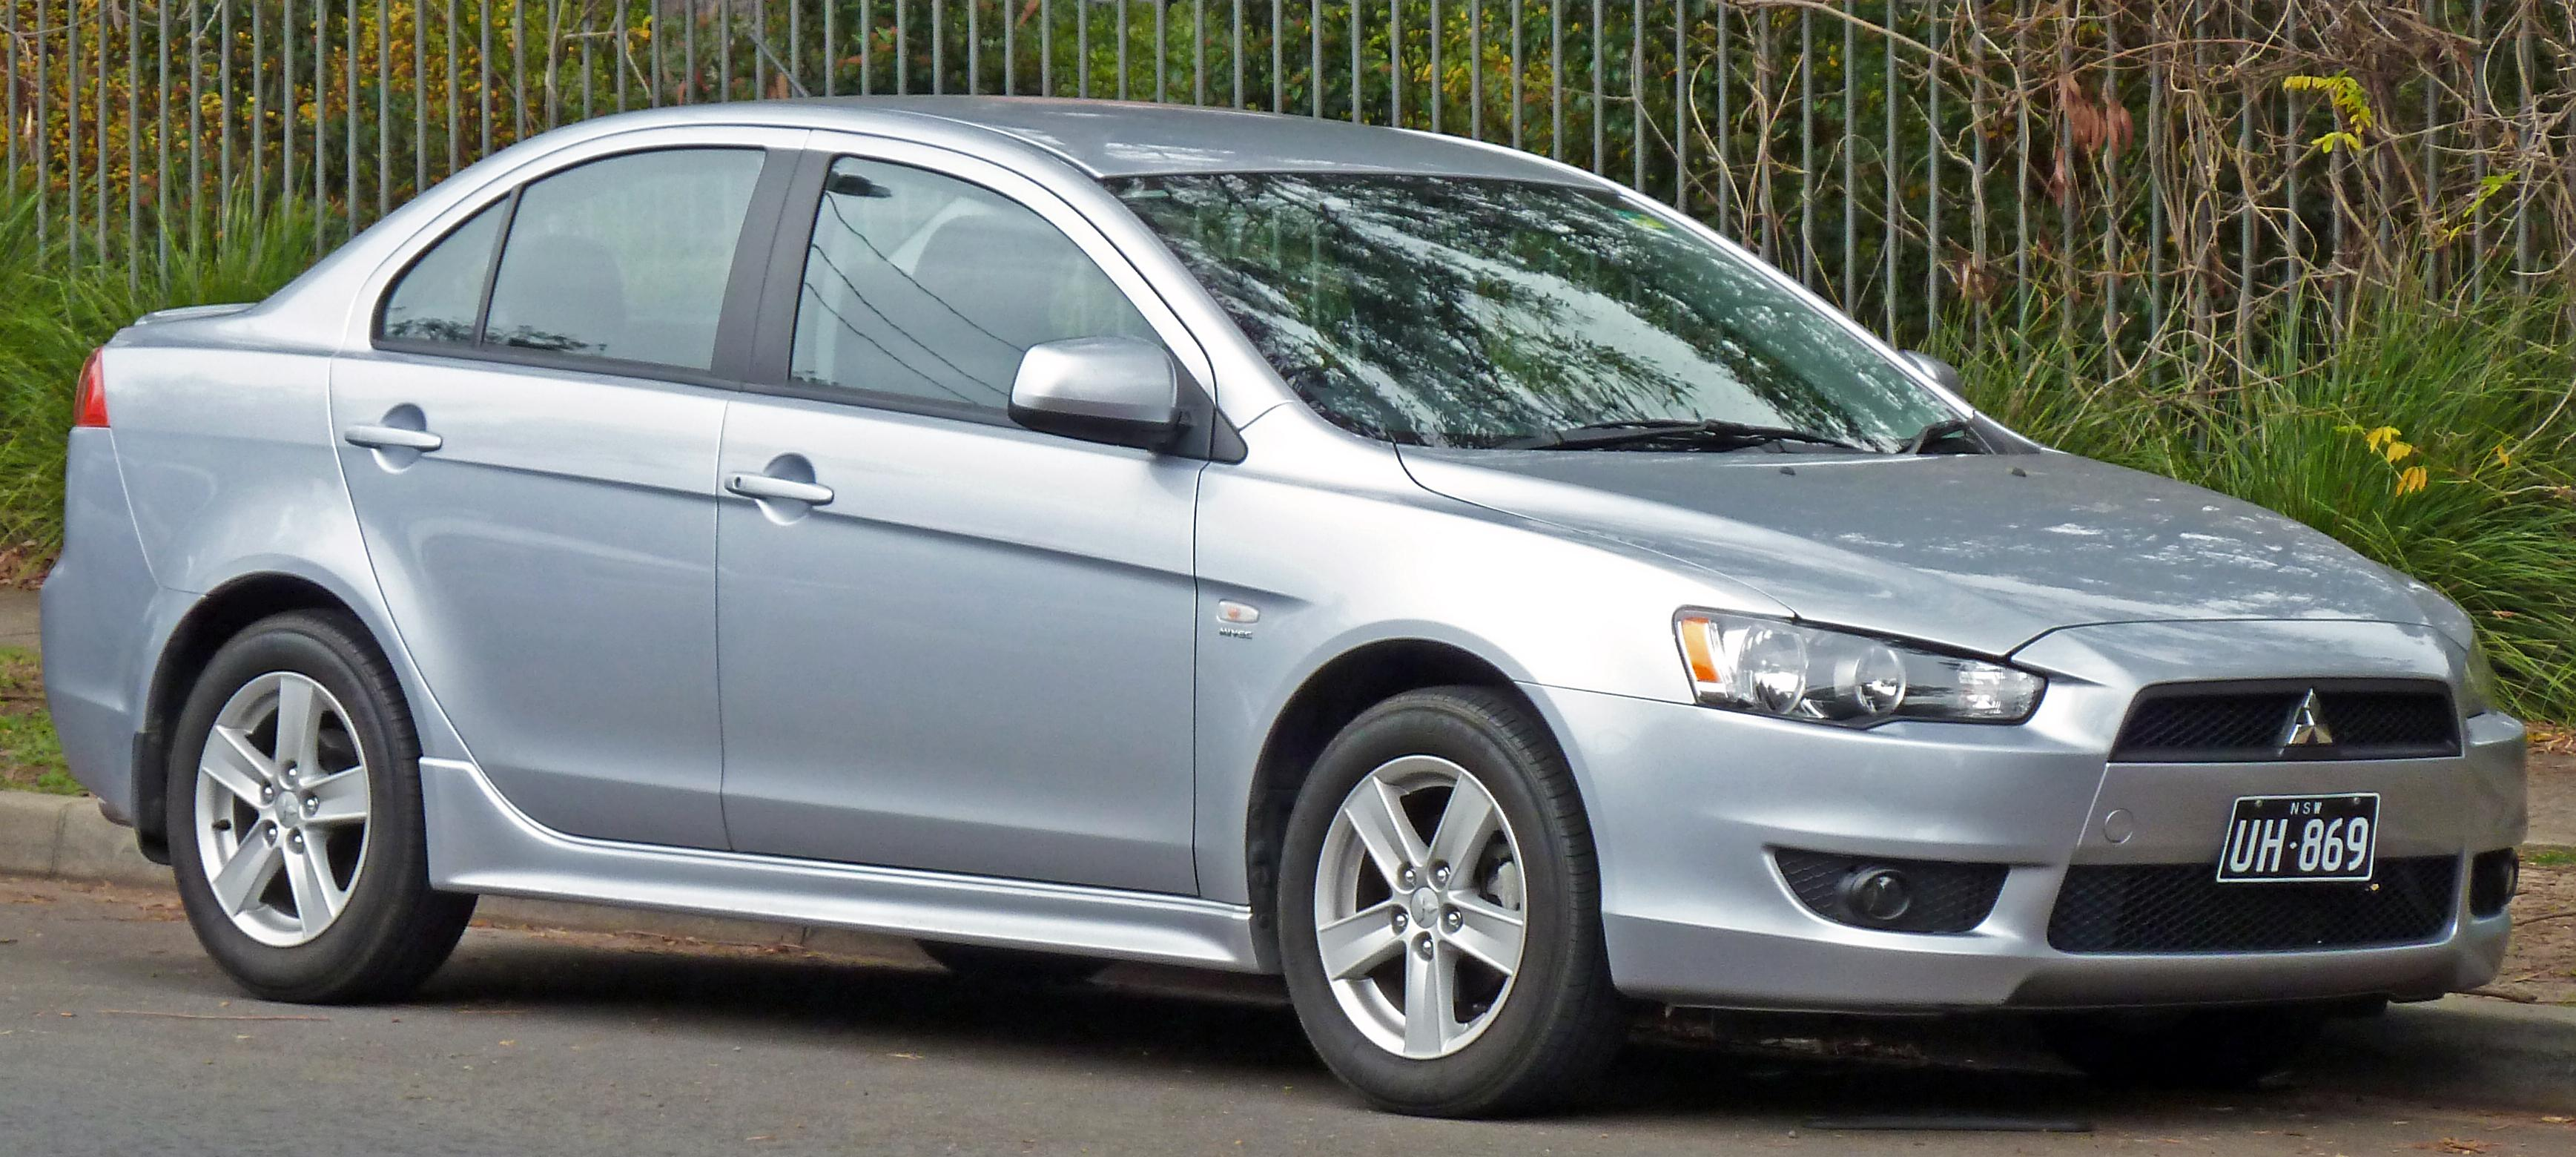Mitsubishi: (2257, 680, 2361, 763)
